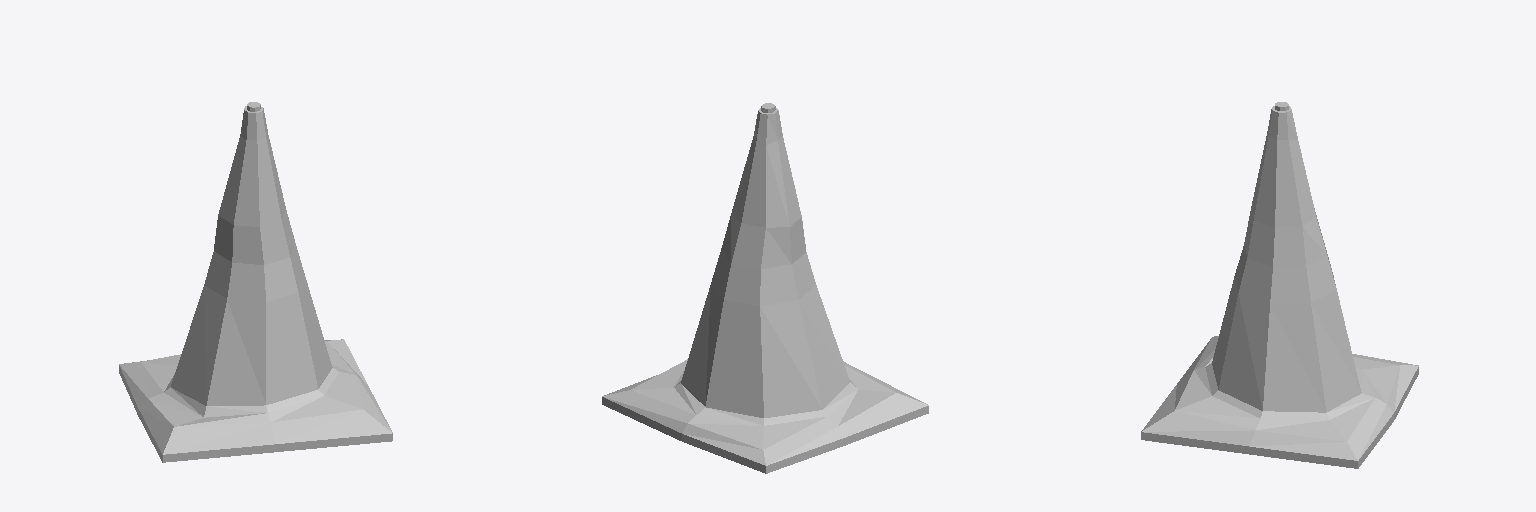
File: hazzard_cone_1.obj
3 renders of one model, left to right at view 1: azimuth 30°, elevation 25°; view 2: azimuth 150°, elevation 25°; view 3: azimuth 270°, elevation 25°, orthographic.
Parts seen in each view (by area): view 1: hazzard_cone_1_roads_material; view 2: hazzard_cone_1_roads_material; view 3: hazzard_cone_1_roads_material.
Boxes of the visible parts, x1,y1,x2,y2 form: hazzard_cone_1_roads_material: [119, 102, 392, 462]; hazzard_cone_1_roads_material: [602, 103, 928, 473]; hazzard_cone_1_roads_material: [1141, 102, 1418, 468].
Bounding box in the file's own units: 0.7049 × 0.7988 × 0.667.